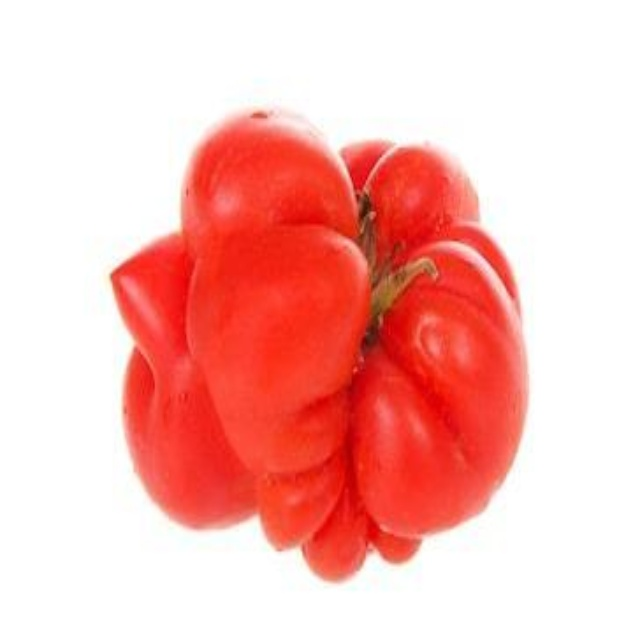tomato: (124, 105, 514, 571)
